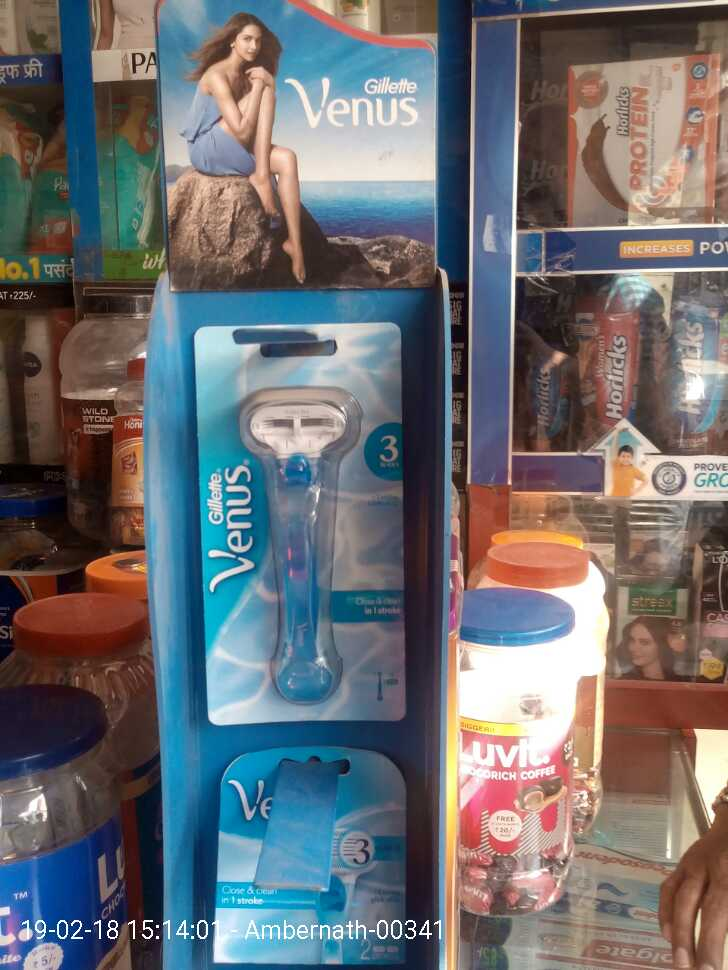beauty: (189, 321, 419, 730), (206, 759, 419, 970)
